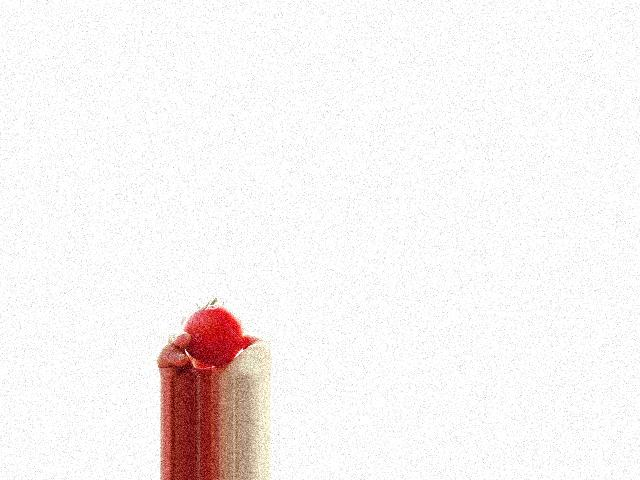tomato: (180, 304, 243, 365)
